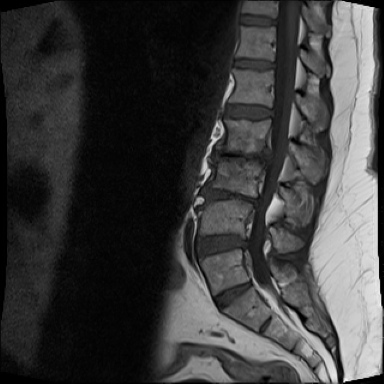Degenerative Disc Disease (DDD): (210, 275, 256, 315), (200, 187, 265, 210), (208, 149, 276, 166)
Lumbar Disc Bulge (LDB): (189, 221, 256, 263), (199, 181, 263, 208), (208, 143, 276, 168)
Normal IVD: (220, 97, 276, 123), (223, 56, 279, 72), (233, 12, 279, 28)
Spinal Stenosis (SS): (247, 189, 264, 211), (263, 146, 279, 167), (238, 231, 252, 252)
